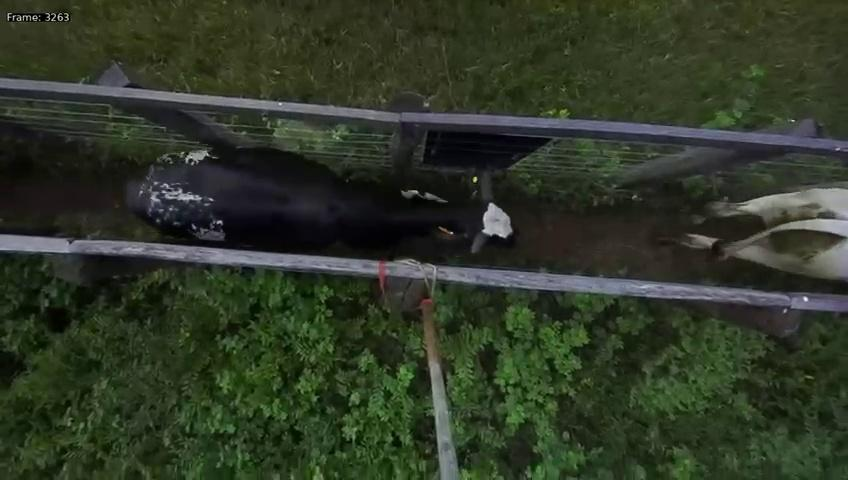cattle: (118, 135, 525, 271)
